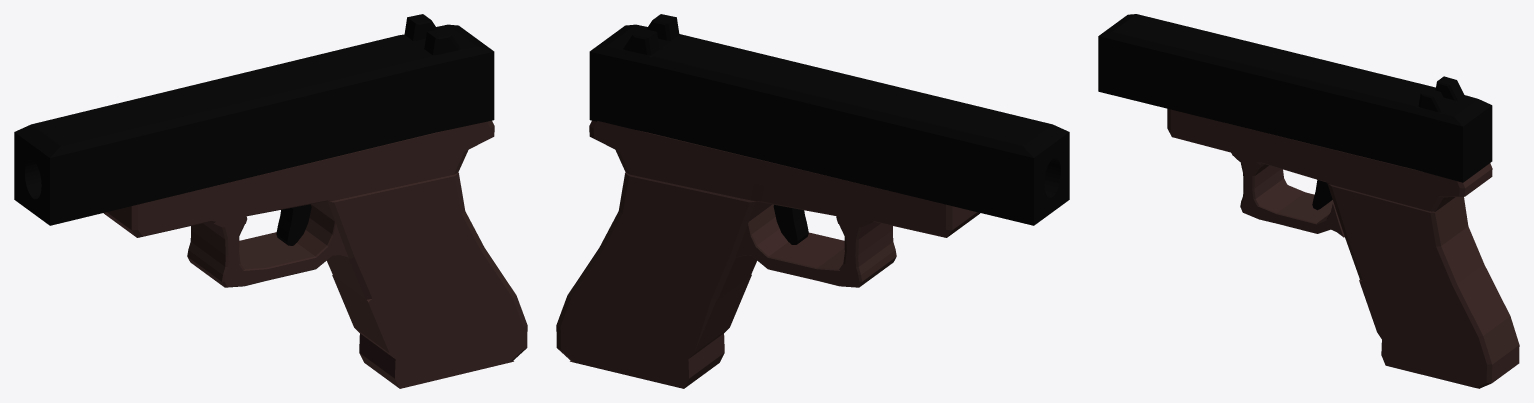
The model's file is pistol.fbx.
The picture shows the model from 3 angles, left to right: view 1: azimuth 30°, elevation 25°; view 2: azimuth 150°, elevation 25°; view 3: azimuth 330°, elevation 25°; orthographic projection. The views are drawn at different scales.
Parts seen in each view (by area): view 1: Cube.001, Cube, Cube.002; view 2: Cube.001, Cube, Cube.002; view 3: Cube.001, Cube, Cube.002.
Part boxes in pixels (box(x1,y1,x2,y2)): Cube.001: box(103, 120, 527, 388); Cube: box(14, 14, 494, 225); Cube.002: box(276, 204, 311, 245); Cube.001: box(556, 120, 980, 388); Cube: box(589, 14, 1069, 225); Cube.002: box(773, 205, 808, 244); Cube.001: box(1167, 108, 1519, 388); Cube: box(1098, 14, 1492, 182); Cube.002: box(1312, 179, 1332, 210).
Bounding box in the file's own units: 615 × 417 × 79.34.
